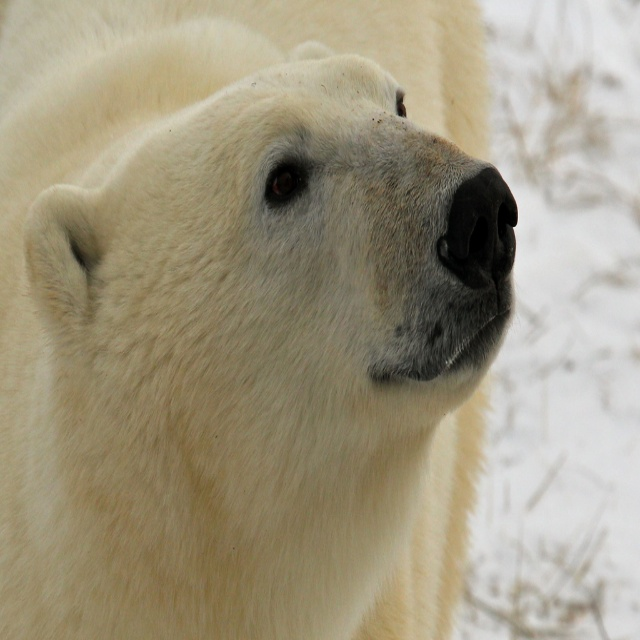Polar bear: (0, 0, 520, 639)
